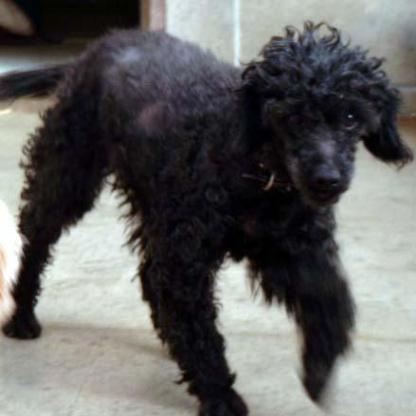miniature_poodle: (0, 26, 413, 413)
